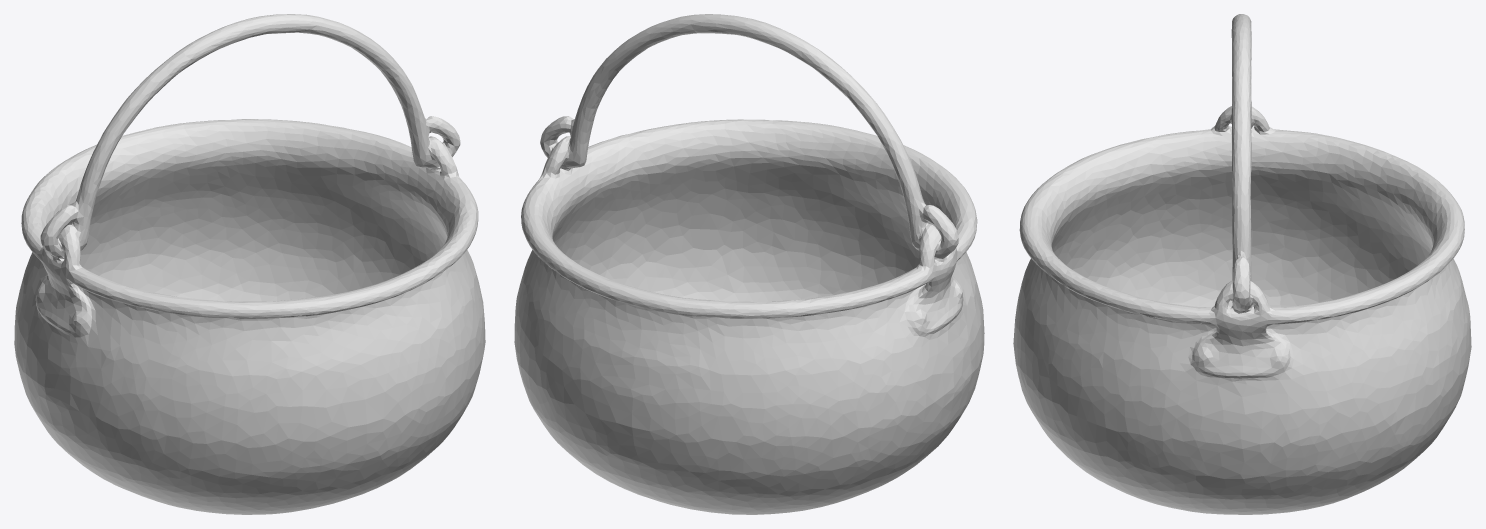
File: cauldron01.glb
3 renders of one model, left to right at view 1: azimuth 30°, elevation 25°; view 2: azimuth 150°, elevation 25°; view 3: azimuth 270°, elevation 25°, orthographic. The views are drawn at different scales.
Visible parts, largest first — view 1: Low; view 2: Low; view 3: Low.
Part boxes in pixels (bbox=[...]): Low: bbox=[14, 14, 485, 514]; Low: bbox=[514, 14, 984, 514]; Low: bbox=[1013, 14, 1471, 514].
Size of the model in its own units: 1.92 by 1.99 by 1.87.
1 material, 1 textured.
